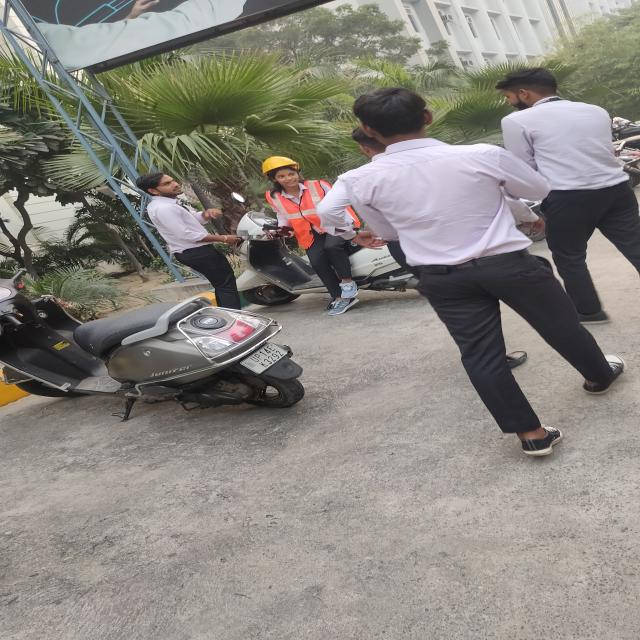safe: (259, 153, 360, 316)
unsafe: (342, 83, 564, 469), (489, 66, 640, 323), (132, 172, 244, 308)
